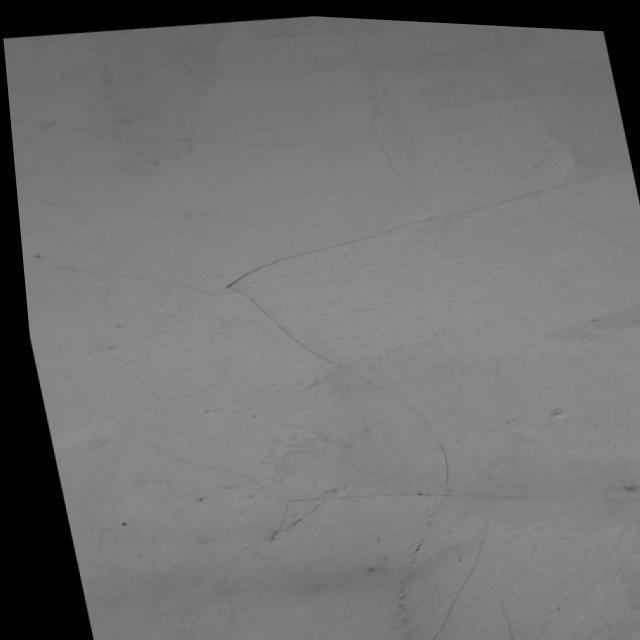Crack: (198, 161, 609, 467)
